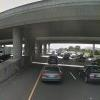Bridge: (4, 4, 93, 47)
